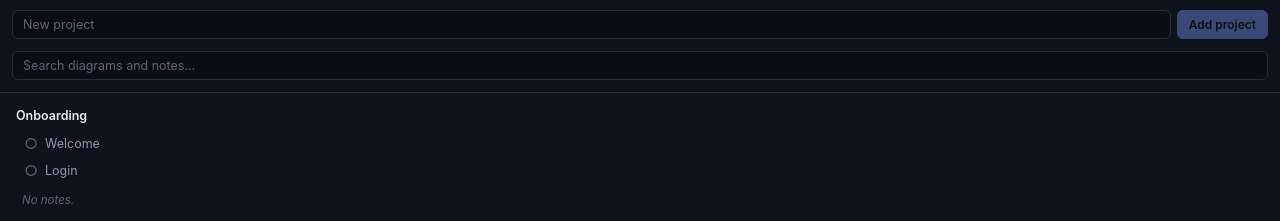
Scenario: Explorer › filters the selected project's diagrams by name while searching
Type "welcome" into the search field with test id "diagram-search-input".
click(640, 66); type("welcome")  # box [12,51,1268,80]
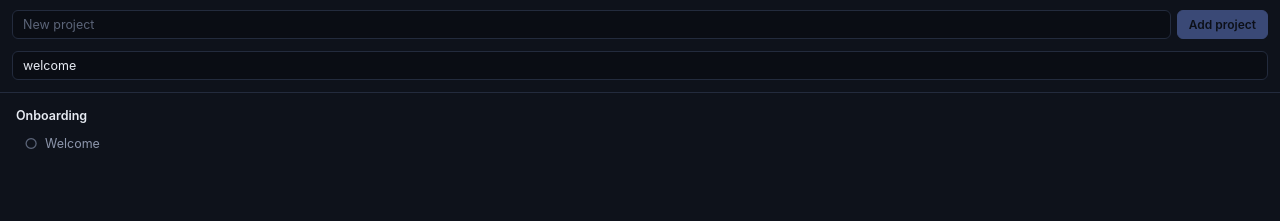
Check: the number of list items with test id "explorer-diagram" is 1, box [12,130,1268,157]
Replace the text in the search field with test id "diagram-search-input" with "login" at (640, 66), box [12,51,1268,80]
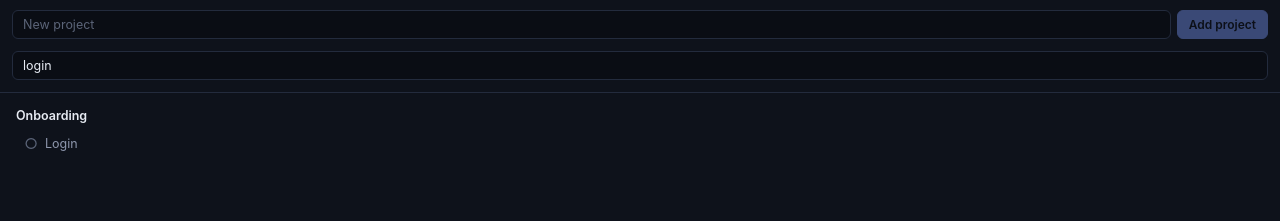
Check: the button with aria-label "Load diagram Login" is shown, box [12,130,1268,157]
